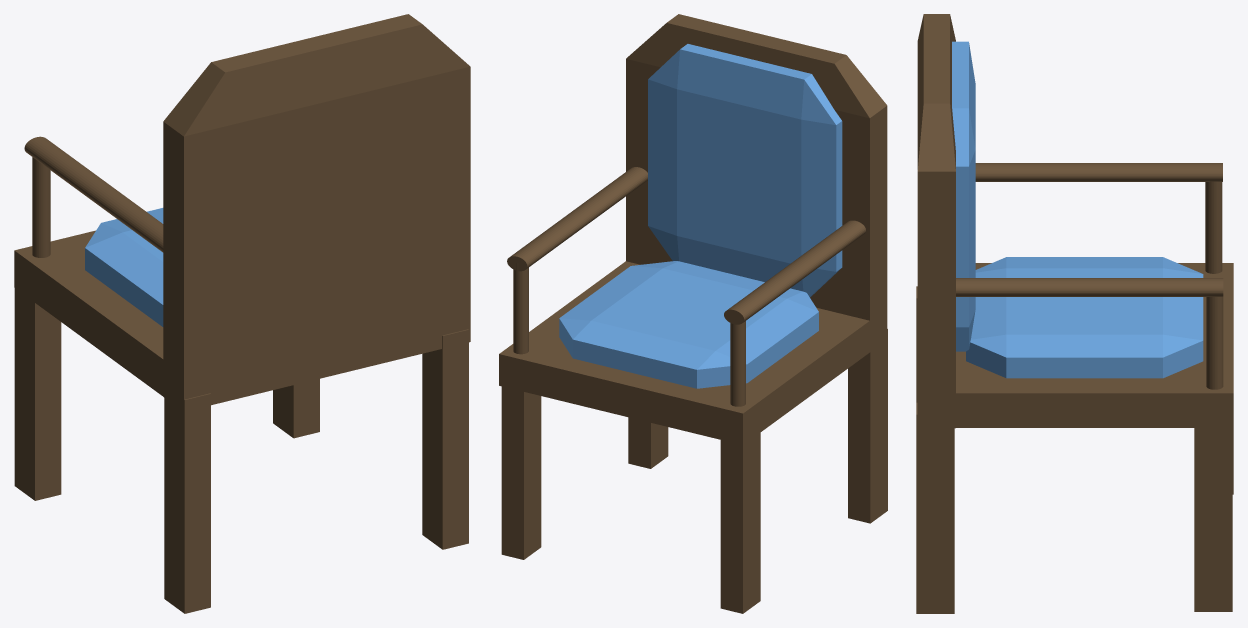
The model's file is chair.fbx.
The picture shows the model from 3 angles, left to right: view 1: azimuth 30°, elevation 25°; view 2: azimuth 150°, elevation 25°; view 3: azimuth 270°, elevation 25°; orthographic projection. The views are drawn at different scales.
Parts seen in each view (by area): view 1: Cube.002, Cube, Cube.003, Cube.006, Cube.005, Cube.001, Cylinder.003, Cube.004, Cylinder.002; view 2: Cube.007, Cube.002, Cube.001, Cube, Cube.005, Cube.004, Cube.003, Cylinder.003, Cylinder.001, Cube.006, Cylinder, Cylinder.002; view 3: Cube.001, Cube, Cube.002, Cube.006, Cube.004, Cube.007, Cylinder.001, Cylinder.003, Cylinder, Cylinder.002.
Boxes of the visible parts, x1=… form: Cube.002: x1=163, y1=14, x2=470, y2=411; Cube: x1=14, y1=230, x2=165, y2=397; Cube.003: x1=164, y1=393, x2=210, y2=613; Cube.006: x1=422, y1=329, x2=468, y2=549; Cube.005: x1=14, y1=288, x2=61, y2=500; Cube.001: x1=85, y1=208, x2=163, y2=326; Cylinder.003: x1=24, y1=136, x2=163, y2=252; Cube.004: x1=273, y1=379, x2=319, y2=438; Cylinder.002: x1=32, y1=157, x2=50, y2=257; Cube.007: x1=648, y1=44, x2=842, y2=297; Cube.002: x1=626, y1=14, x2=887, y2=352; Cube.001: x1=559, y1=261, x2=818, y2=388; Cube: x1=499, y1=261, x2=869, y2=444; Cube.005: x1=720, y1=433, x2=760, y2=613; Cube.004: x1=501, y1=386, x2=541, y2=559; Cube.003: x1=848, y1=329, x2=887, y2=523; Cylinder.003: x1=724, y1=220, x2=865, y2=324; Cylinder.001: x1=507, y1=167, x2=647, y2=271; Cube.006: x1=628, y1=417, x2=668, y2=468; Cylinder: x1=513, y1=263, x2=528, y2=354; Cylinder.002: x1=730, y1=321, x2=745, y2=406; Cube.001: x1=966, y1=257, x2=1203, y2=378; Cube: x1=952, y1=263, x2=1233, y2=427; Cube.002: x1=917, y1=14, x2=955, y2=428; Cube.006: x1=916, y1=402, x2=954, y2=613; Cube.004: x1=1194, y1=428, x2=1232, y2=611; Cube.007: x1=952, y1=41, x2=975, y2=351; Cylinder.001: x1=956, y1=278, x2=1223, y2=296; Cylinder.003: x1=975, y1=163, x2=1222, y2=181; Cylinder: x1=1206, y1=297, x2=1223, y2=389; Cylinder.002: x1=1205, y1=181, x2=1222, y2=273.
Bounding box in the file's own units: 360 × 633 × 370.
